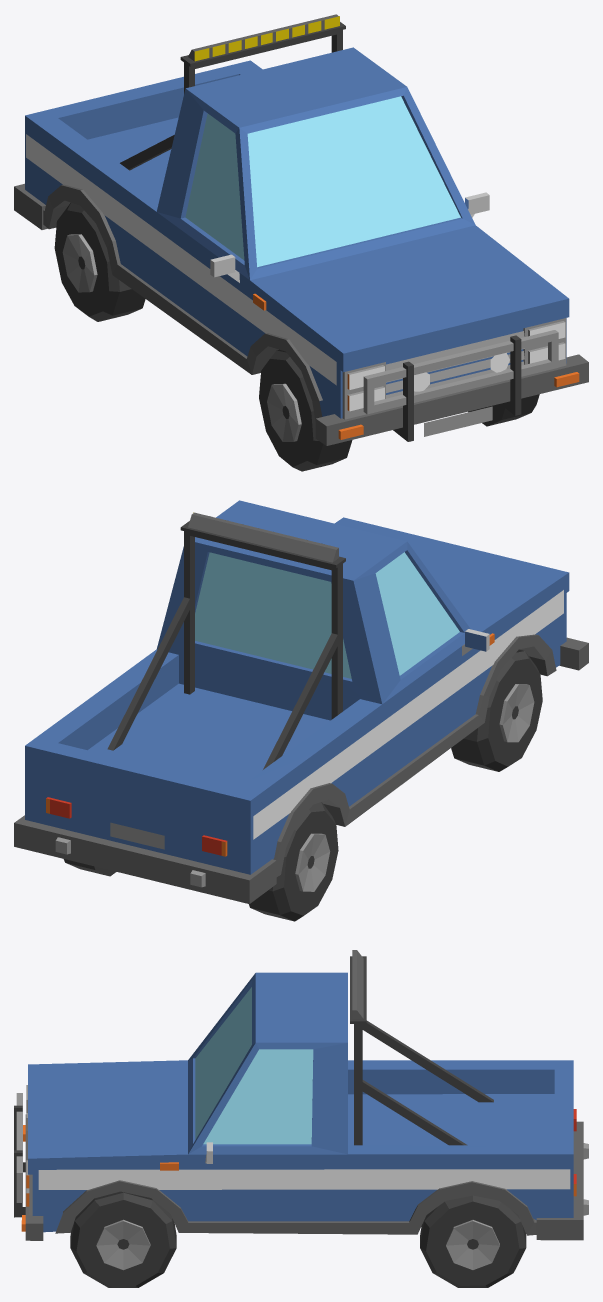
Rendered from Jeep_2.fbx.
3 renders of one model, top to bottom at view 1: azimuth 30°, elevation 25°; view 2: azimuth 150°, elevation 25°; view 3: azimuth 270°, elevation 25°, orthographic. The views are drawn at different scales.
Parts seen in each view (by area): view 1: Jeep_2; view 2: Jeep_2; view 3: Jeep_2.
Boxes of the visible parts, <box> form: Jeep_2: <box>14,14,588,471</box>; Jeep_2: <box>14,500,588,921</box>; Jeep_2: <box>14,950,588,1287</box>.
Bounding box in the file's own units: 0.8927 × 0.9495 × 1.88.
